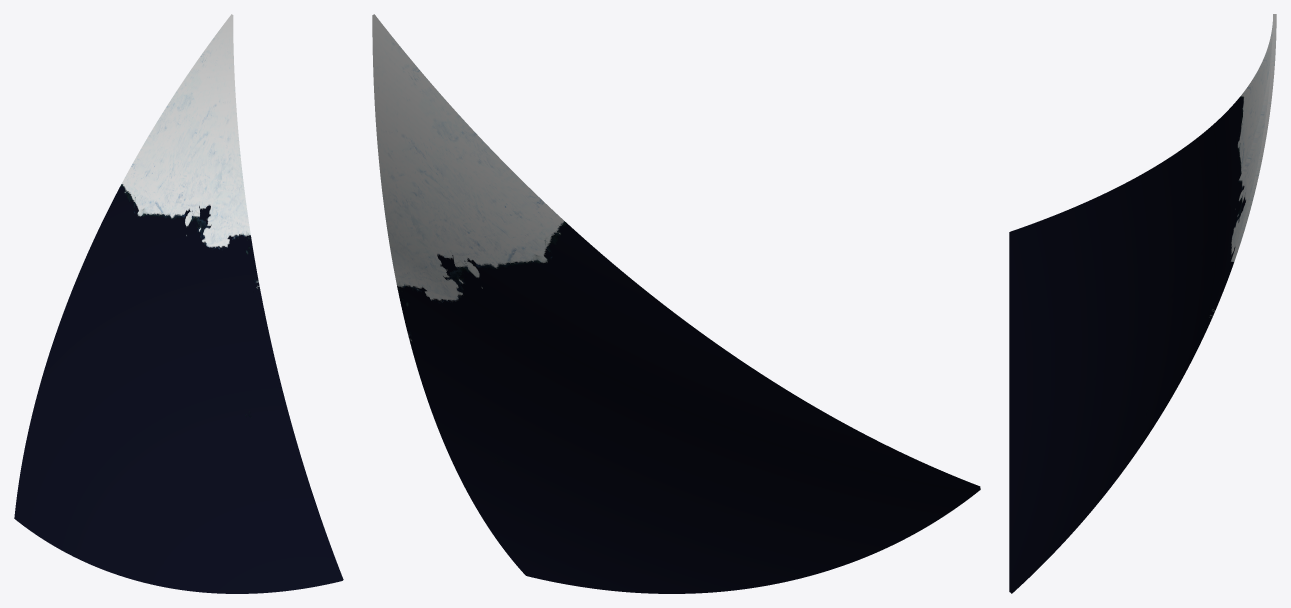
The picture shows the model from 3 angles, left to right: view 1: azimuth 30°, elevation 25°; view 2: azimuth 150°, elevation 25°; view 3: azimuth 270°, elevation 25°; orthographic projection. The views are drawn at different scales.
Parts seen in each view (by area): view 1: DefaultName.003, DefaultName.001, DefaultName.005, DefaultName.007; view 2: DefaultName.001, DefaultName.003, DefaultName.007, DefaultName.005; view 3: DefaultName.001, DefaultName.003, DefaultName.007, DefaultName.005.
Boxes of the visible parts, x1,y1,x2,y2 form: DefaultName.003: (156, 298, 343, 593); DefaultName.001: (14, 264, 166, 587); DefaultName.005: (164, 15, 261, 305); DefaultName.007: (83, 14, 232, 301); DefaultName.001: (546, 302, 980, 584); DefaultName.003: (412, 351, 771, 593); DefaultName.007: (372, 14, 659, 355); DefaultName.005: (372, 16, 545, 360); DefaultName.001: (1009, 132, 1207, 445); DefaultName.003: (1009, 254, 1207, 593); DefaultName.007: (1204, 22, 1272, 247); DefaultName.005: (1204, 14, 1276, 327).
Bounding box in the file's own units: 31944 × 45176 × 18870.
Materials: 4 (4 with a texture image).
